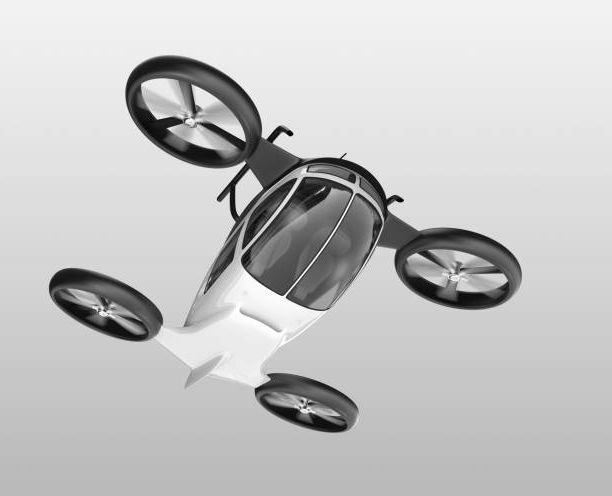Drone: (39, 49, 526, 443)
